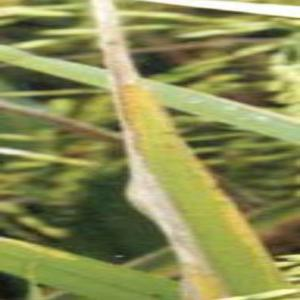2 BacterialBlight: (130, 106, 244, 281)
